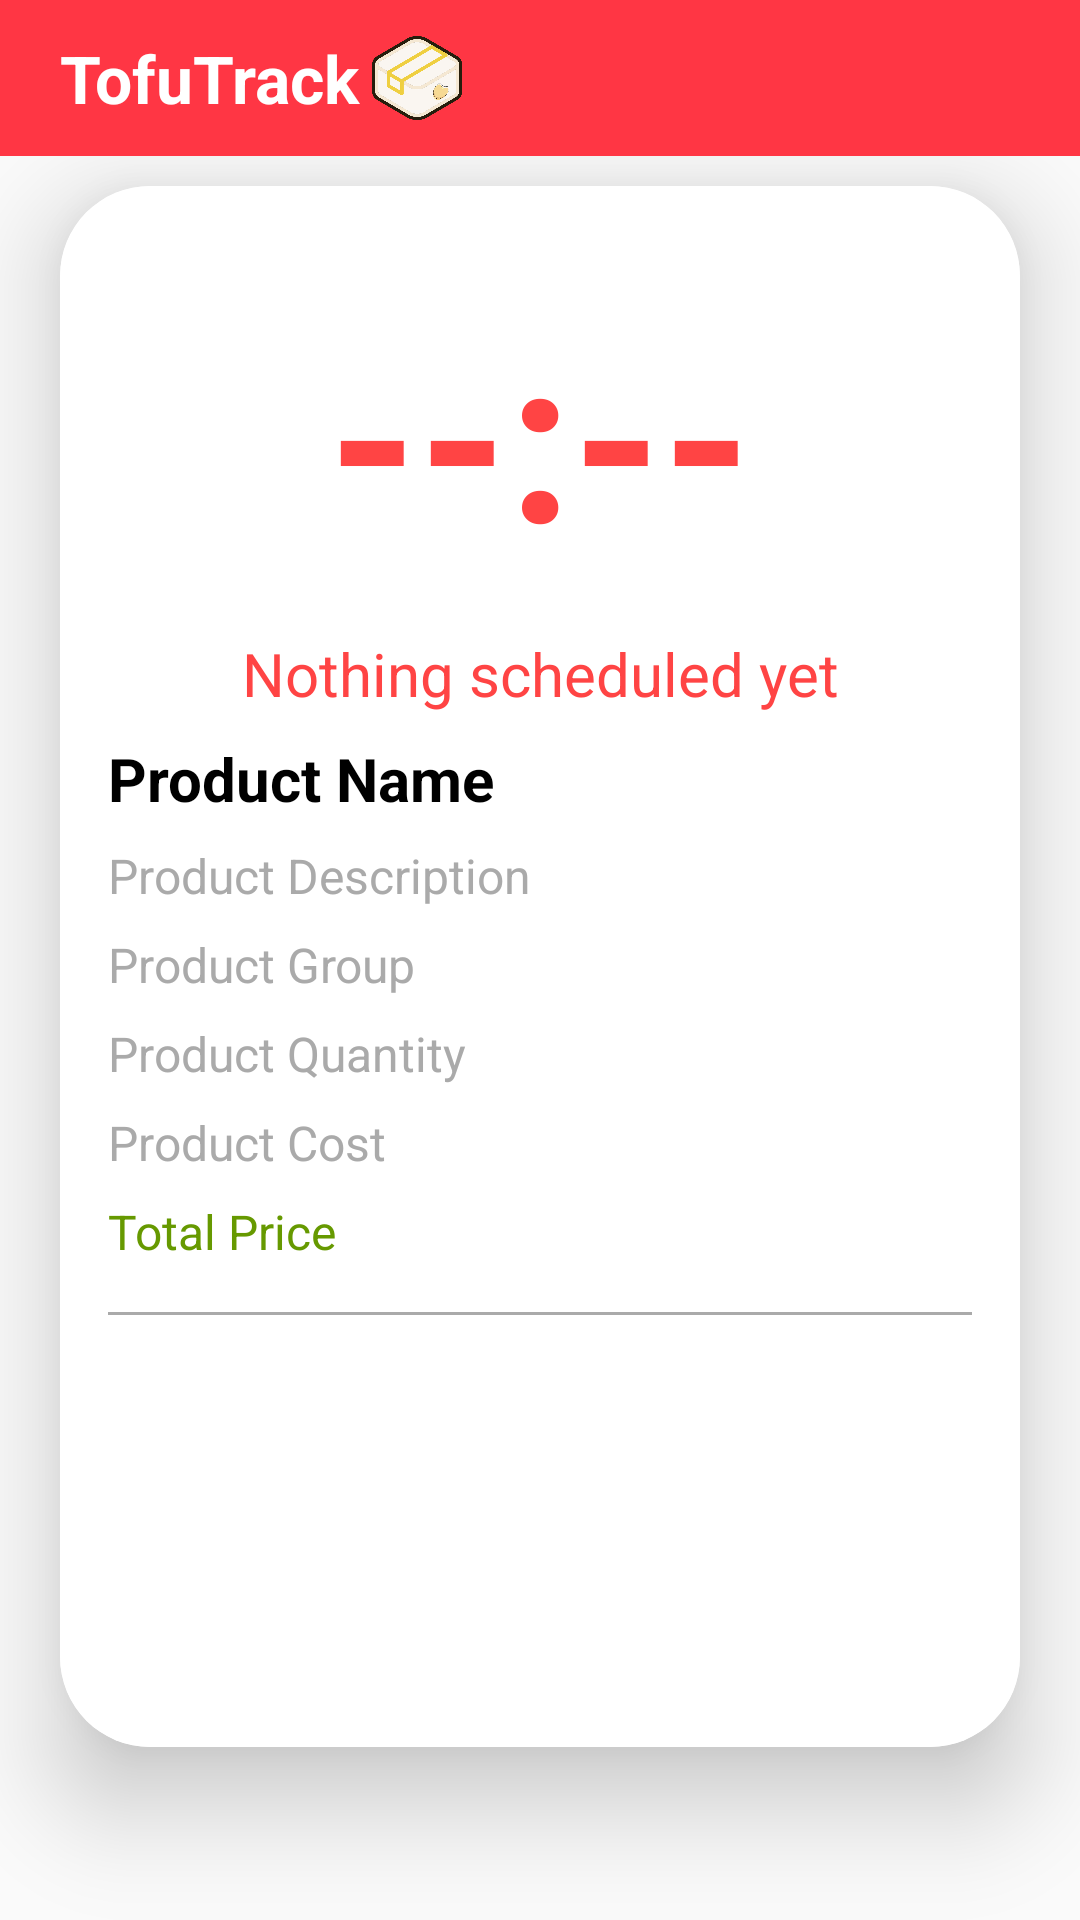

Screen size 1080×1920. Icon name, then its center in pixels as point (x, y):
loogo: point (417, 78)
